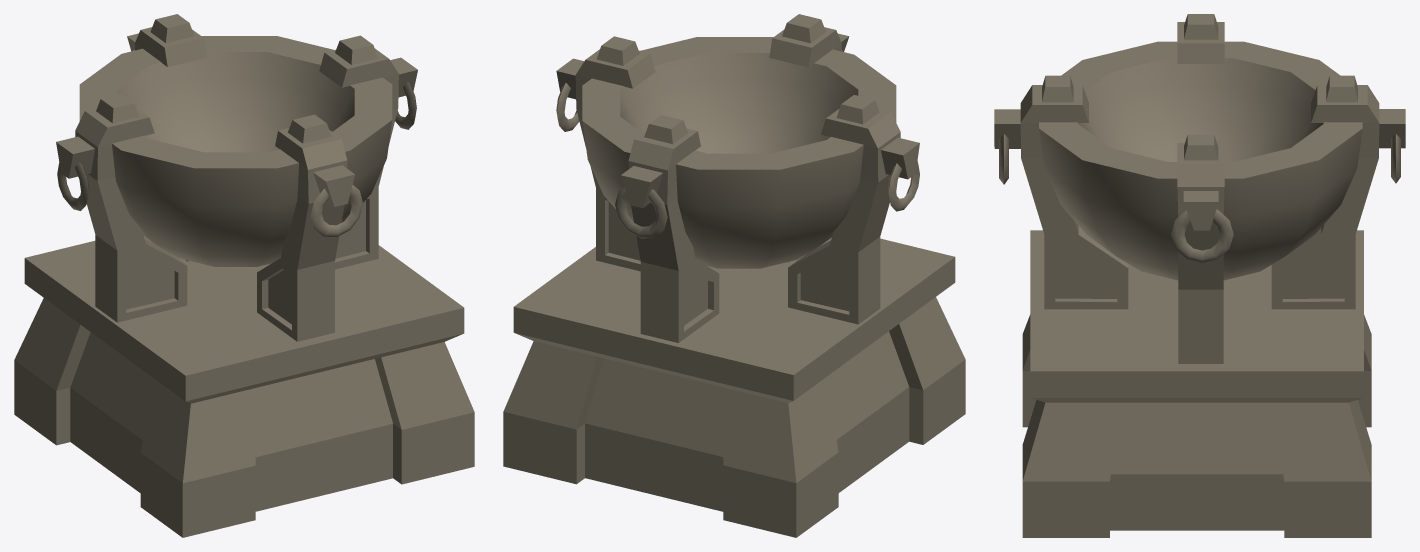
The model's file is TempleBrazier_A.fbx.
The picture shows the model from 3 angles, left to right: view 1: azimuth 30°, elevation 25°; view 2: azimuth 150°, elevation 25°; view 3: azimuth 270°, elevation 25°; orthographic projection. The views are drawn at different scales.
Parts seen in each view (by area): view 1: TempleBrazier_A; view 2: TempleBrazier_A; view 3: TempleBrazier_A.
Boxes of the visible parts, x1=… form: TempleBrazier_A: x1=14, y1=14, x2=474, y2=537; TempleBrazier_A: x1=503, y1=14, x2=965, y2=537; TempleBrazier_A: x1=994, y1=14, x2=1405, y2=537.
Size of the model in its own units: 189 by 193 by 189.
